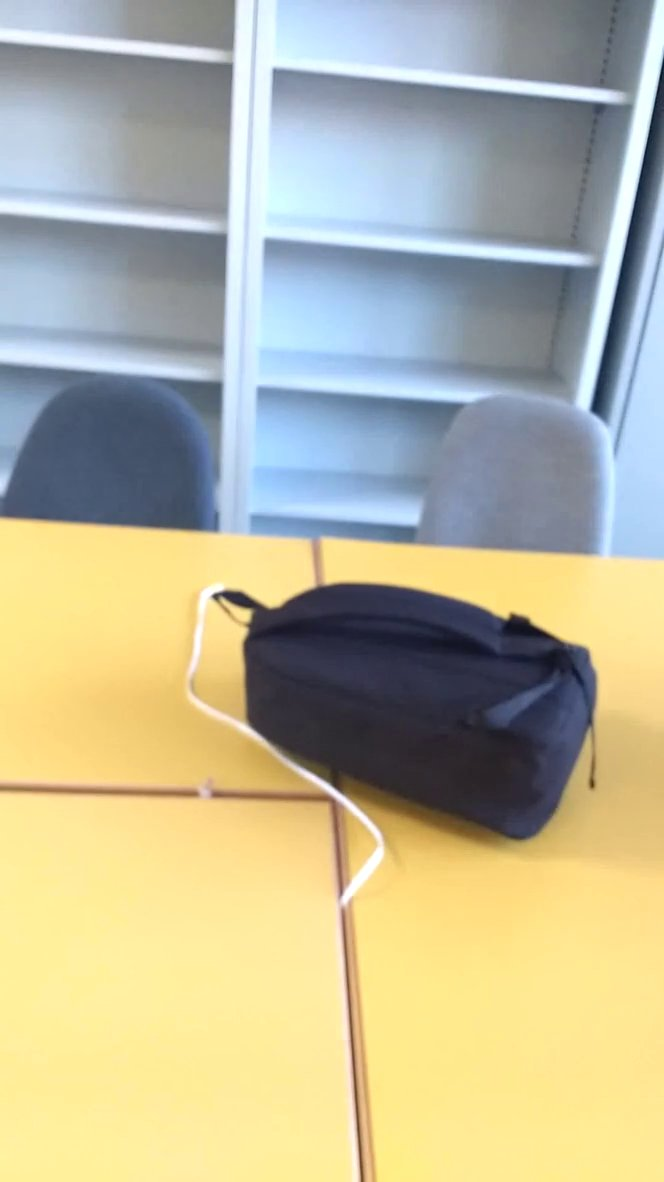bag: (187, 564, 628, 859)
chair: (1, 362, 234, 550), (401, 379, 620, 576)
